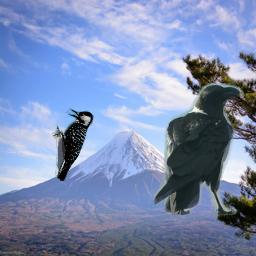Crow: (152, 83, 244, 215)
Woodpecker: (52, 108, 95, 181)
